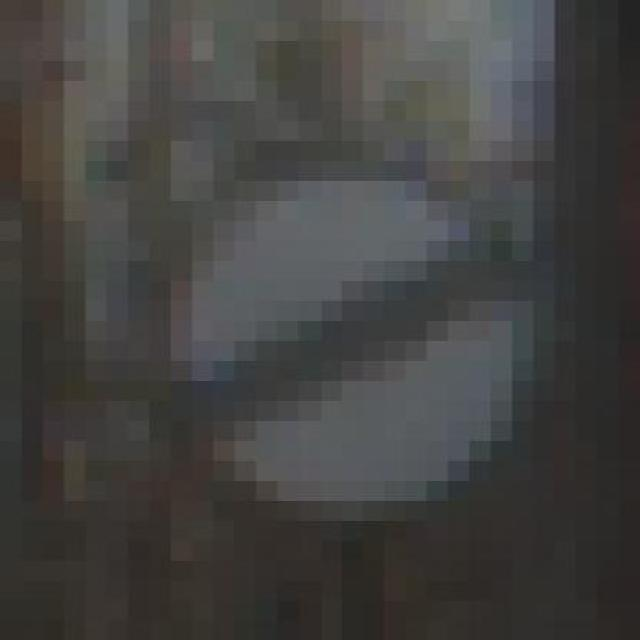End of all speed and passing limits: (149, 140, 576, 540)
